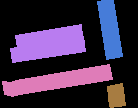parkingspot: (2, 64, 112, 96), (10, 36, 85, 62), (15, 24, 82, 48), (97, 0, 122, 59), (107, 83, 125, 107)
